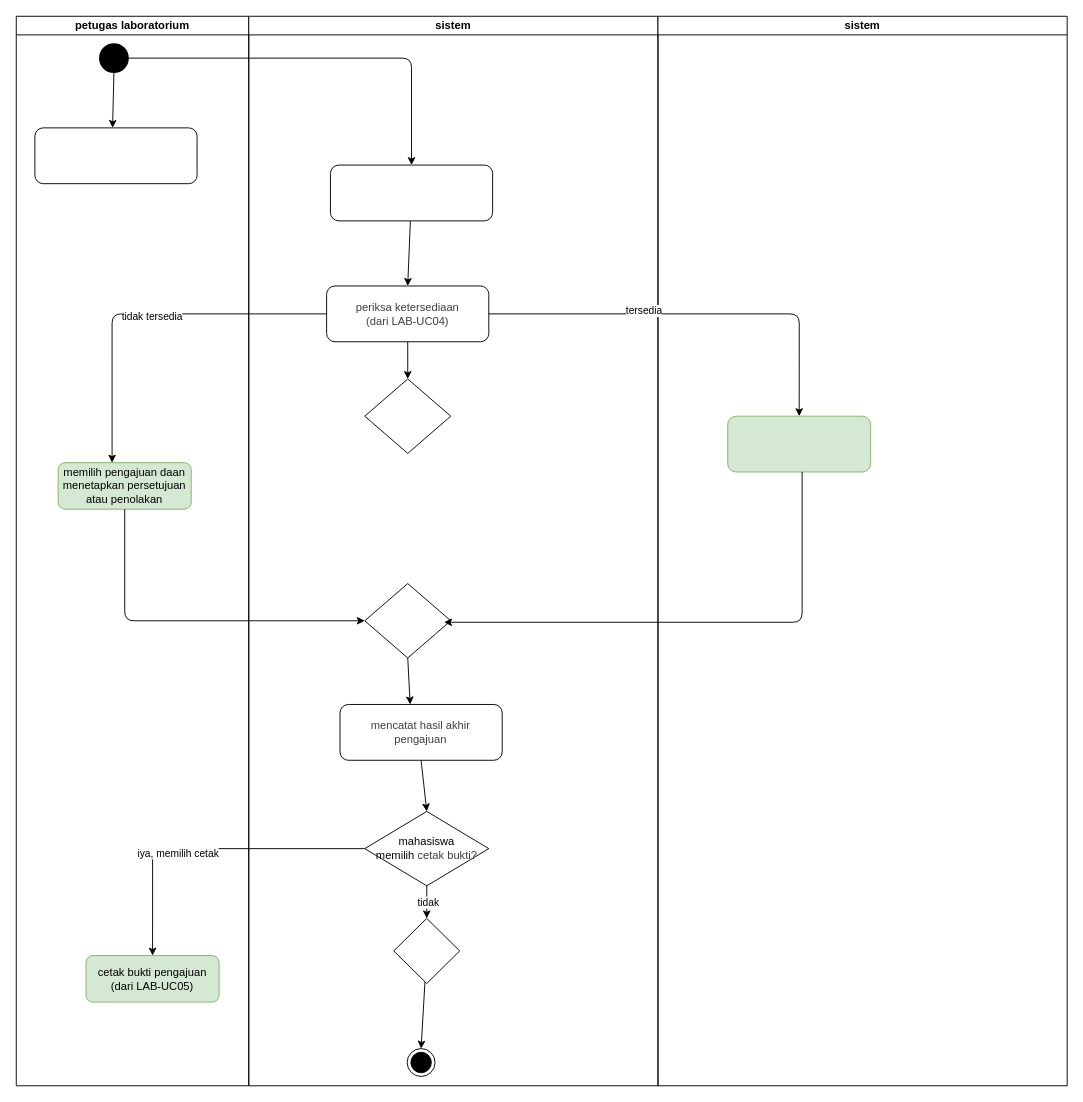
This 1083x1102 diagram has some shape labels left out. The shapes that lost their labels are listed below. From the top down, each one's centre as x and y in pixels, then its label:
At pixel 115 155: "membuka daftar pengajuan yang berstatus menunggu keputusan".
At pixel 411 192: "menyimpan data pengajuan peminjaman".
At pixel 407 415: "Peralatan tersedia?".
At pixel 799 443: "mengubah status pengajuan menjadi disetujui dan meampilkan konfirmasi".
